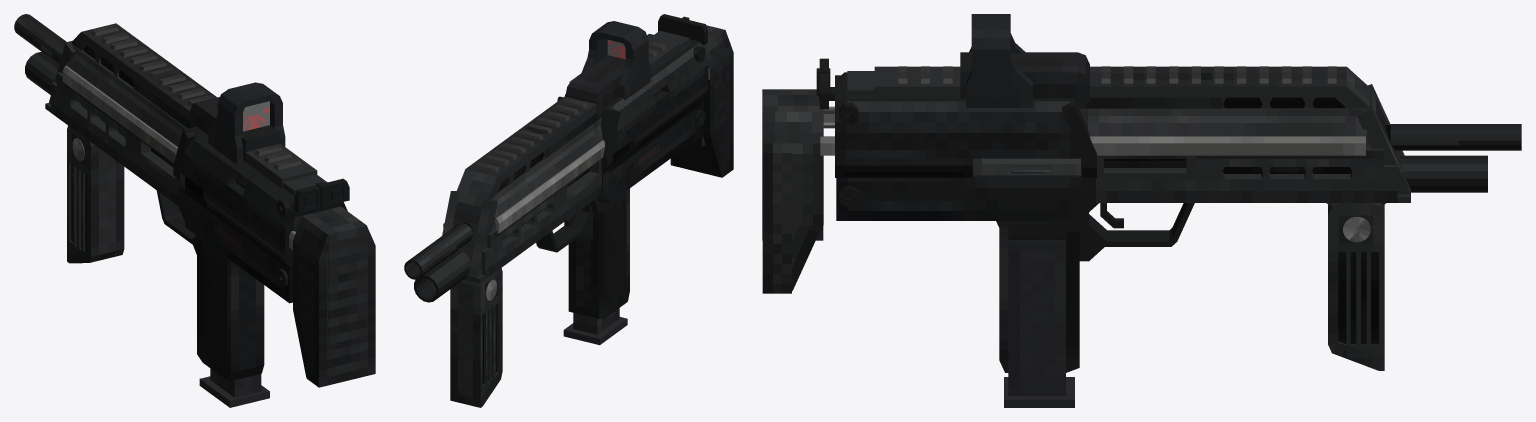
The model's file is minecraft_-_hl2_mp7.glb.
3 renders of one model, left to right at view 1: azimuth 30°, elevation 25°; view 2: azimuth 150°, elevation 25°; view 3: azimuth 270°, elevation 25°, orthographic. The views are drawn at different scales.
Visible parts, largest first — view 1: cube_97, cube_94, cube_195, cube_56, cube_14, cube_36, cube_202, cube_17, cube_66, cube_233, cube_84, cube_71 (+31 smaller); view 2: cube_56, cube_195, cube_13, cube_34, cube_202, cube_198, cube_17, cube_66, cube_233, cube_93, cube_97, cube_23 (+33 smaller); view 3: cube_336, cube_195, cube_202, cube_76, cube_66, cube_234, cube_55, cube_54, cube_97, cube_85, cube_24, Backdrop_197 (+34 smaller).
Part boxes in pixels (bbox=[...]): cube_97: bbox=[306, 246, 375, 387]; cube_94: bbox=[302, 206, 366, 344]; cube_195: bbox=[81, 23, 317, 188]; cube_56: bbox=[185, 176, 292, 303]; cube_14: bbox=[227, 258, 264, 372]; cube_36: bbox=[86, 169, 124, 256]; cube_202: bbox=[51, 93, 178, 205]; cube_17: bbox=[202, 249, 227, 369]; cube_66: bbox=[185, 154, 298, 248]; cube_233: bbox=[66, 53, 182, 146]; cube_84: bbox=[62, 71, 292, 249]; cube_71: bbox=[242, 172, 293, 226]; cube_56: bbox=[598, 101, 703, 203]; cube_195: bbox=[465, 35, 680, 183]; cube_13: bbox=[568, 201, 604, 318]; cube_34: bbox=[450, 308, 482, 407]; cube_202: bbox=[482, 176, 601, 279]; cube_198: bbox=[442, 191, 497, 277]; cube_17: bbox=[604, 198, 626, 307]; cube_66: bbox=[617, 64, 708, 150]; cube_233: bbox=[493, 125, 602, 219]; cube_93: bbox=[671, 125, 722, 177]; cube_97: bbox=[670, 53, 733, 177]; cube_23: bbox=[450, 271, 502, 315]; cube_336: bbox=[1008, 240, 1065, 395]; cube_195: bbox=[874, 66, 1346, 97]; cube_202: bbox=[1096, 174, 1397, 202]; cube_76: bbox=[835, 101, 1069, 132]; cube_66: bbox=[835, 128, 1069, 158]; cube_234: bbox=[1088, 116, 1366, 136]; cube_55: bbox=[963, 175, 1081, 220]; cube_54: bbox=[836, 177, 963, 220]; cube_97: bbox=[762, 143, 791, 293]; cube_85: bbox=[820, 143, 1365, 155]; cube_24: bbox=[1338, 252, 1378, 344]; Backdrop_197: bbox=[1104, 97, 1351, 173].
Size of the model in its own units: 0.0697 by 0.3329 by 0.6166.
Materials: 5 (5 with a texture image).
